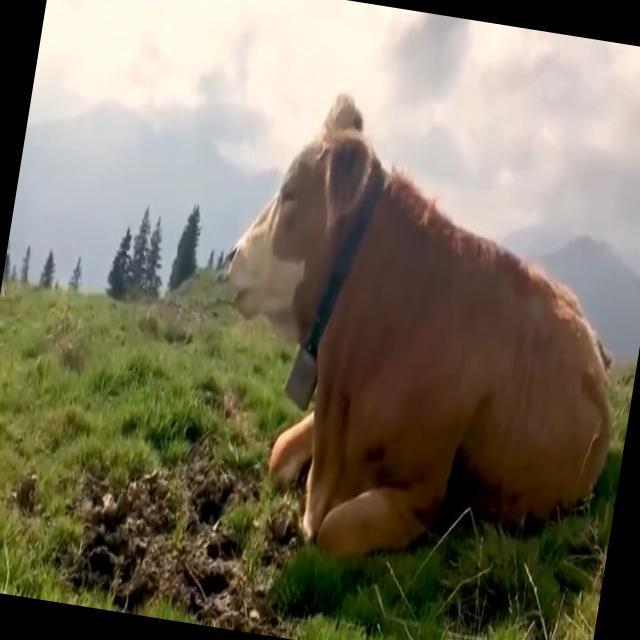COW: (228, 94, 611, 555)
